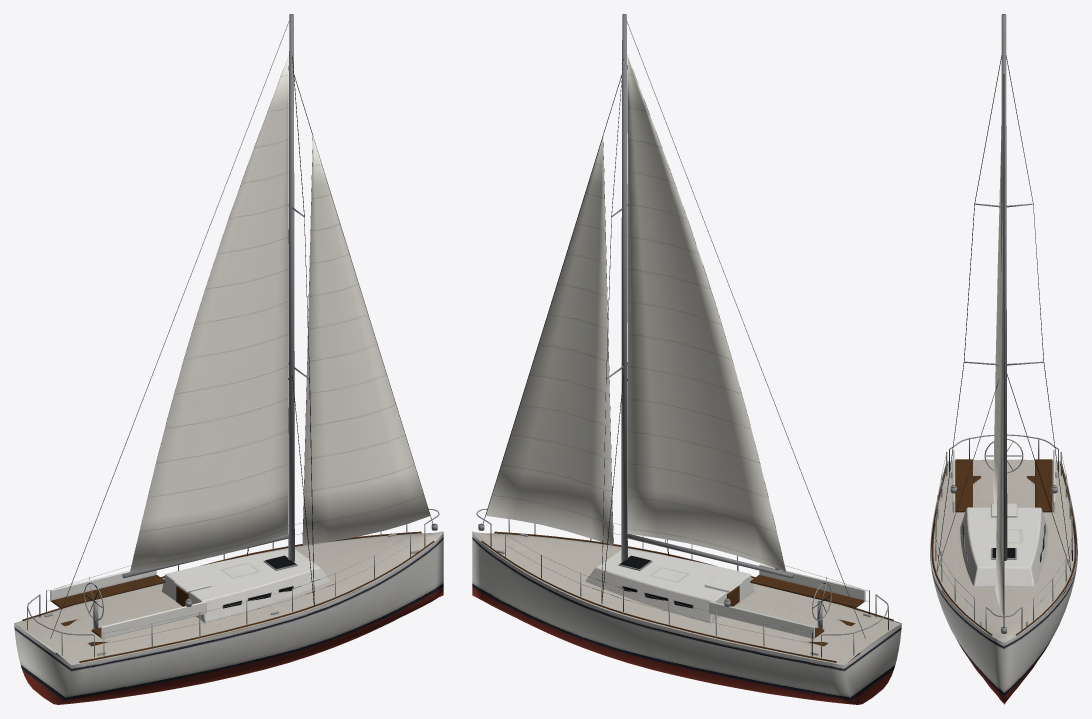
File: yacht.glb
3 renders of one model, left to right at view 1: azimuth 30°, elevation 25°; view 2: azimuth 150°, elevation 25°; view 3: azimuth 270°, elevation 25°, orthographic.
Visible parts, largest first — view 1: yacht_hull, yacht_main, yacht_jib; view 2: yacht_hull, yacht_main, yacht_jib; view 3: yacht_hull, yacht_jib, yacht_main.
Boxes of the visible parts, <box> form: yacht_hull: <box>14,14,443,704</box>; yacht_main: <box>122,55,288,578</box>; yacht_jib: <box>302,136,430,545</box>; yacht_hull: <box>472,14,901,704</box>; yacht_main: <box>627,55,793,578</box>; yacht_jib: <box>486,136,613,545</box>; yacht_hull: <box>930,14,1077,704</box>; yacht_jib: <box>995,167,1003,614</box>; yacht_main: <box>993,141,1001,512</box>.
Size of the model in its own units: 11.18 by 16.63 by 3.52.
1 material, 1 textured.
